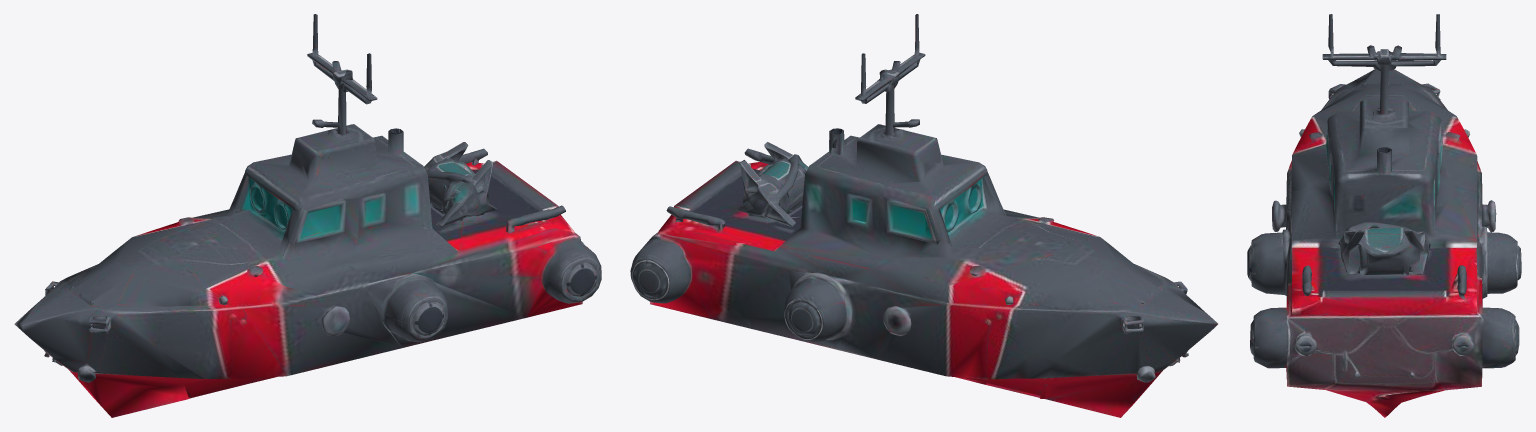
The model's file is enemy-gunboat-512.glb.
3 renders of one model, left to right at view 1: azimuth 30°, elevation 25°; view 2: azimuth 150°, elevation 25°; view 3: azimuth 270°, elevation 25°, orthographic.
Bounding box in the file's own units: 1.9 × 1.12 × 0.8554.
1 material, 1 textured.
